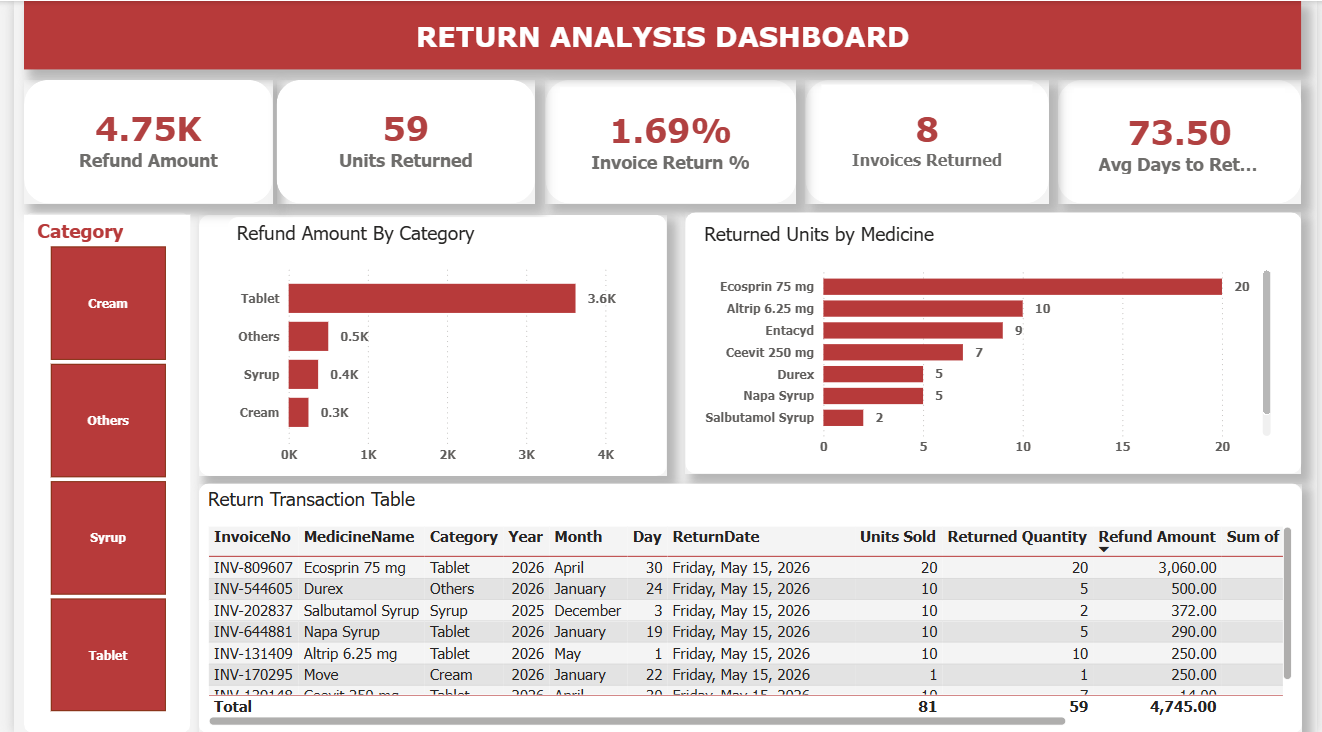

The page's visual inventory and layout, read from the dashboard file:
{"tool":"powerbi","page":{"name":"Return Analysis","canvas":[1280,720],"ordinal":4},"visuals":[{"type":"shape","box":[10,0,1253.9,67.2],"z":0},{"type":"shape","box":[1024.5,77.3,239.3,121.5],"z":1000},{"type":"shape","box":[776.7,77.3,239.3,121.5],"z":2000},{"type":"shape","box":[521.5,77.3,246.6,121.5],"z":3000},{"type":"shape","box":[9.8,207.4,163.2,512.9],"z":4000},{"type":"shape","box":[181.6,209.8,458.9,256.4],"z":5000},{"type":"shape","box":[728.8,217.2,535,209.8],"z":6000},{"type":"shape","box":[181.6,473.6,1082.2,246.6],"z":7000},{"type":"shape","box":[658.9,207.4,604.9,256.4],"z":8000},{"type":"textbox","box":[9.8,0,1254,67.5],"z":9000},{"type":"shape","box":[9.8,77.3,244.2,121.5],"z":10000},{"type":"cardVisual","fields":{"Data":["Sum(Returns.RefundAmount)"]},"box":[23.3,77.3,217.2,117.8],"z":11000},{"type":"shape","box":[257.7,77.3,254,121.5],"z":12000},{"type":"cardVisual","fields":{"Data":["KPI Measures.Units Returned"]},"box":[276.1,77.3,217.2,117.8],"z":13000},{"type":"cardVisual","fields":{"Data":["KPI Measures.Invoice Return Rate"]},"box":[531.3,79.8,227,117.8],"z":14000},{"type":"cardVisual","fields":{"Data":["KPI Measures.Invoices With Returns"]},"box":[787.7,77.3,217.2,117.8],"z":15000},{"type":"cardVisual","fields":{"Data":["Avg(Returns.DaysToReturn)"]},"box":[1035.6,81,217.2,117.8],"z":16000},{"type":"clusteredBarChart","title":"Refund Amount By Category","fields":{"Category":["Returns.Category"],"Y":["Sum(Returns.RefundAmount)"]},"box":[209.8,212.3,402.5,254],"z":17000},{"type":"clusteredBarChart","title":"Returned Units by Medicine","fields":{"Category":["Returns.MedicineName"],"Y":["Sum(Returns.ReturnedQty)"]},"box":[668.7,213.5,574.2,245.4],"z":18000},{"type":"tableEx","title":"Return Transaction Table","fields":{"Values":["Returns.InvoiceNo","Returns.MedicineName","Returns.Category","Returns.OriginalSaleDate.Variation.Date Hierarchy.Year","Returns.OriginalSaleDate.Variation.Date Hierarchy.Month","Returns.OriginalSaleDate.Variation.Date Hierarchy.Day","Returns.ReturnDate","Sum(Returns.OriginalUnitsSold)","Sum(Returns.ReturnedQty)","Sum(Returns.RefundAmount)","Sum(Returns.DaysToReturn)","Returns.CustomerKey"]},"box":[181.6,473.6,1082.2,246.6],"z":19000},{"type":"slicer","fields":{"Values":["Returns.Category"]},"box":[9.8,209.8,163.2,494.5],"z":20000}]}

Visuals, with their boxes in screenshot pixels (x1, y1, x2, y2), scaled from the page's 1280x720 canvas onto the 1322x732 screenshot:
shape: rect(10, 0, 1305, 68)
shape: rect(1058, 79, 1305, 202)
shape: rect(802, 79, 1049, 202)
shape: rect(539, 79, 793, 202)
shape: rect(10, 211, 179, 731)
shape: rect(188, 213, 662, 474)
shape: rect(753, 221, 1305, 434)
shape: rect(188, 481, 1305, 731)
shape: rect(681, 211, 1305, 472)
textbox: rect(10, 0, 1305, 69)
shape: rect(10, 79, 262, 202)
cardVisual - Sum(Returns.RefundAmount): rect(24, 79, 248, 198)
shape: rect(266, 79, 528, 202)
cardVisual - KPI Measures.Units Returned: rect(285, 79, 509, 198)
cardVisual - KPI Measures.Invoice Return Rate: rect(549, 81, 783, 201)
cardVisual - KPI Measures.Invoices With Returns: rect(814, 79, 1038, 198)
cardVisual - Avg(Returns.DaysToReturn): rect(1070, 82, 1294, 202)
"Refund Amount By Category" clusteredBarChart: rect(217, 216, 632, 474)
"Returned Units by Medicine" clusteredBarChart: rect(691, 217, 1284, 467)
"Return Transaction Table" tableEx: rect(188, 481, 1305, 731)
slicer - Returns.Category: rect(10, 213, 179, 716)
